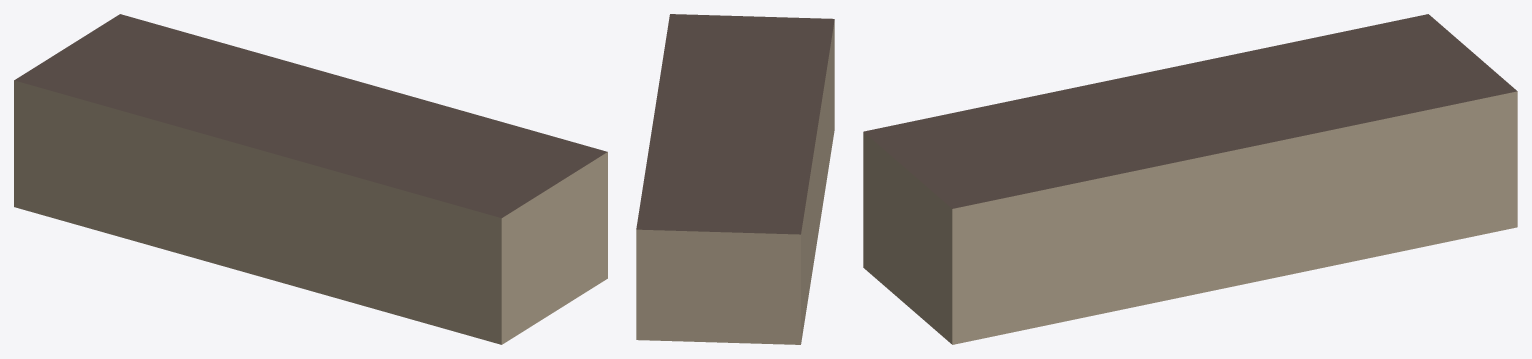
3 views of the same model, side by side, from view 1: azimuth 30°, elevation 25°; view 2: azimuth 150°, elevation 25°; view 3: azimuth 270°, elevation 25° (orthographic). The views are drawn at different scales.
Parts seen in each view (by area): view 1: HP-w369237926; view 2: HP-w369237926; view 3: HP-w369237926.
Part boxes in pixels (bbox=[...]): HP-w369237926: bbox=[14, 14, 607, 344]; HP-w369237926: bbox=[636, 14, 834, 344]; HP-w369237926: bbox=[863, 14, 1517, 344].
Bounding box in the file's own units: 27.65 × 9 × 39.23.
